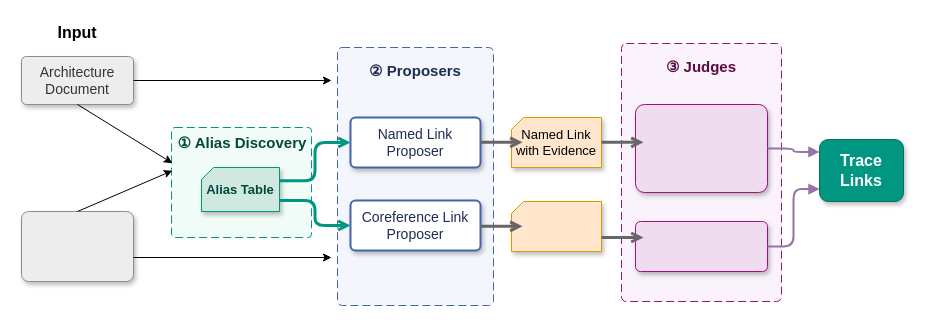
The diagram is 927 pixels wide and 323 high, and some of its shapes have lost their labels. The shapes that lost their labels are listed below. From the top down, each one's centre as x and y in pixels, then its label:
At [702,150]: "Named Link Judge".
At [78,247]: "Component Set".
At [557,227]: "Coref Link with Evidence".
At [702,247]: "Coreference Link Judge".
